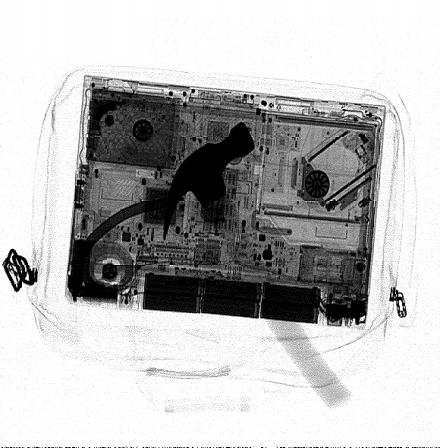Hammer: (163, 122, 353, 410)
